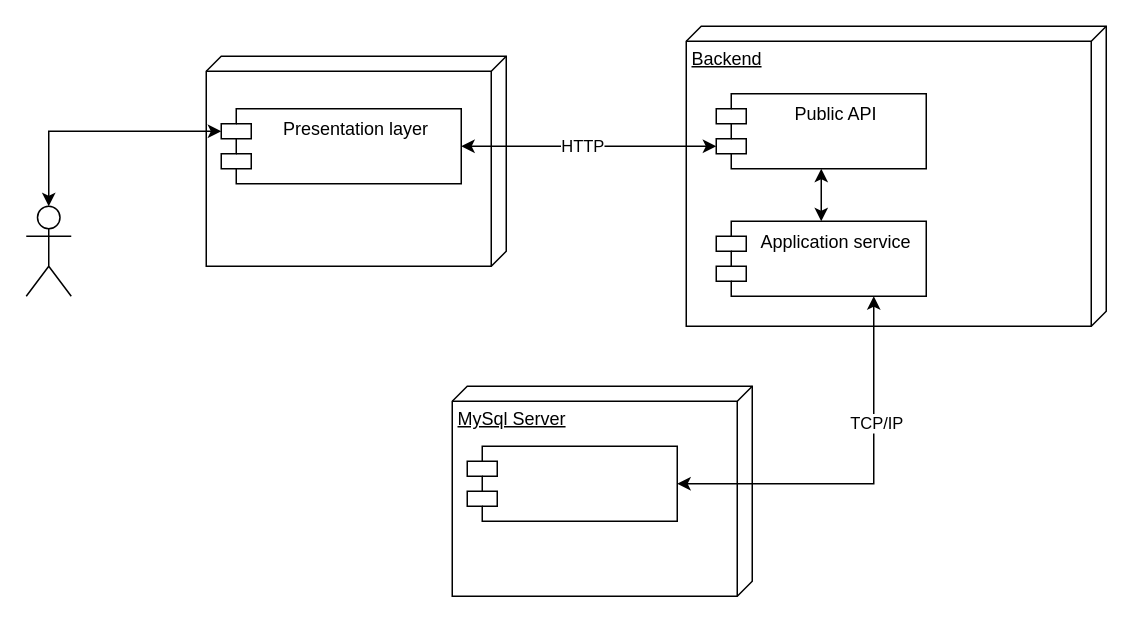
Image size: 1133x623. Some labels were removed from this diagram. Each missing label, with the box of its shape:
database: (466, 445, 677, 521)
Frontend: (205, 55, 506, 266)
User: (25, 205, 71, 296)
